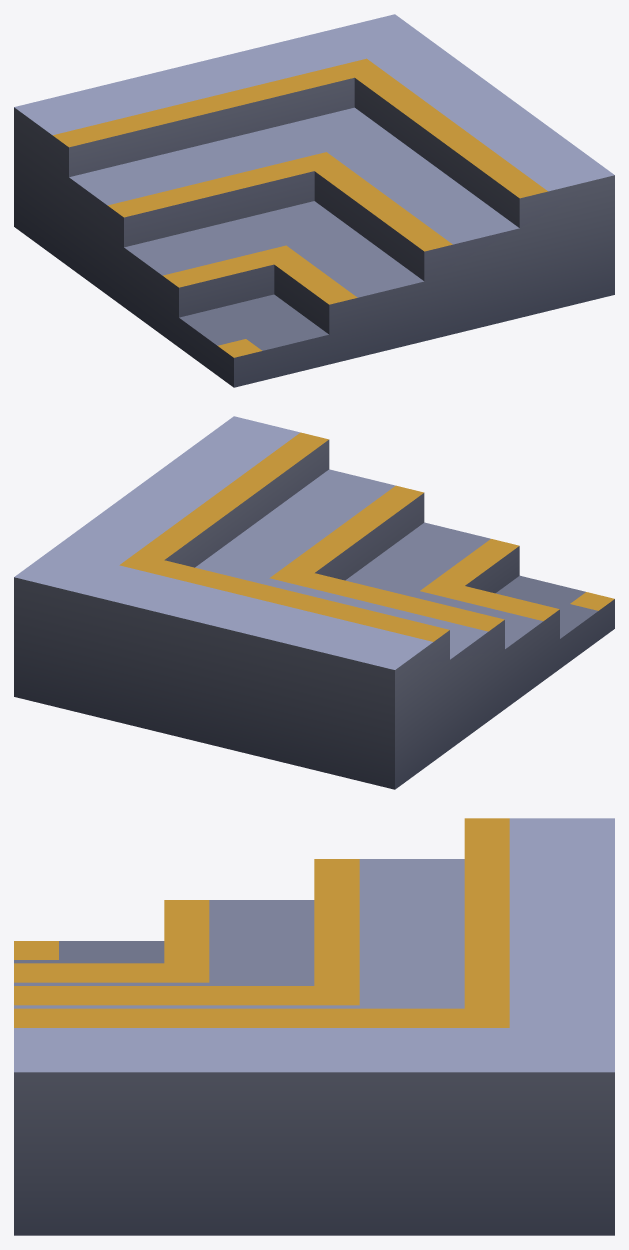
File: stairs-corner-inner.glb
The picture shows the model from 3 angles, top to bottom: view 1: azimuth 30°, elevation 25°; view 2: azimuth 150°, elevation 25°; view 3: azimuth 270°, elevation 25°; orthographic projection. The views are drawn at different scales.
Visible parts, largest first — view 1: stairs-corner-inner; view 2: stairs-corner-inner; view 3: stairs-corner-inner.
Part boxes in pixels (bbox=[...]): stairs-corner-inner: bbox=[14, 14, 614, 387]; stairs-corner-inner: bbox=[14, 416, 614, 789]; stairs-corner-inner: bbox=[14, 818, 614, 1235].
Bounding box in the file's own units: 1 × 0.3 × 1.
